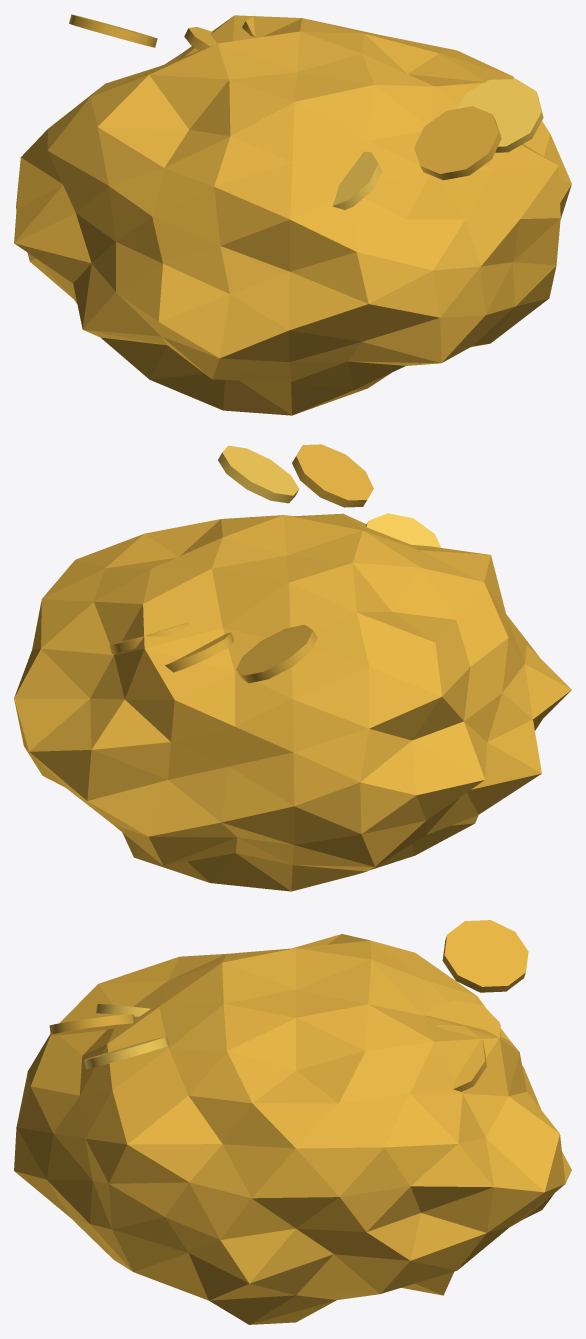
Rendered from gold_pile.glb.
3 renders of one model, top to bottom at view 1: azimuth 30°, elevation 25°; view 2: azimuth 150°, elevation 25°; view 3: azimuth 270°, elevation 25°, orthographic. The views are drawn at different scales.
Visible parts, largest first — view 1: root; view 2: root; view 3: root.
Part boxes in pixels (x1,y1,x2,y2): root: [14, 14, 571, 415]; root: [14, 444, 571, 891]; root: [14, 920, 571, 1324].
Bounding box in the file's own units: 0.8721 × 0.5312 × 0.8886.
